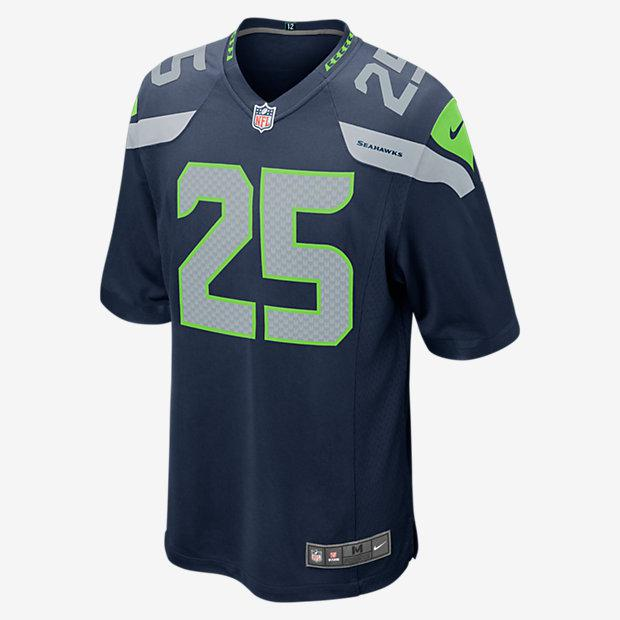teeshirt: (94, 10, 529, 608)
